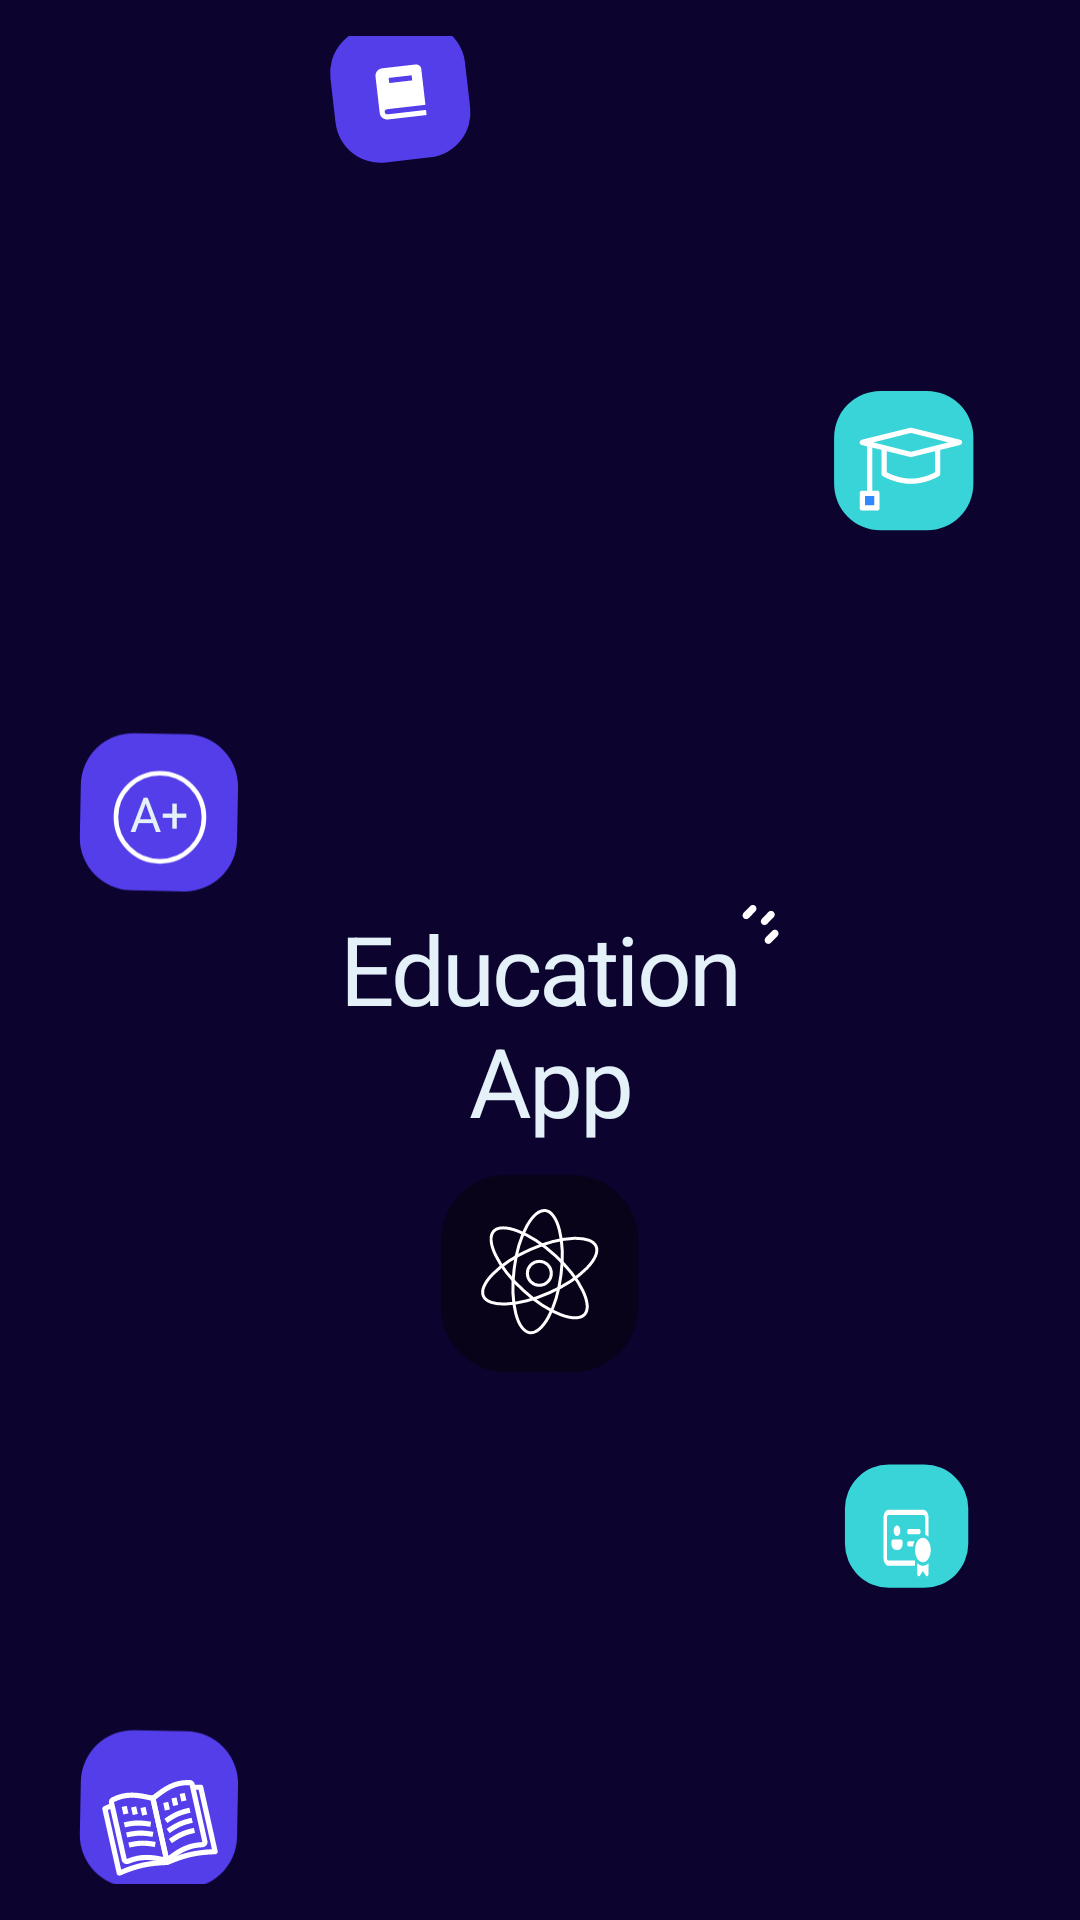

Icons on this 1080px x 1920px Android screen, each with its box as (x1, y1, x2, y2):
book: (330, 36, 471, 163)
fluent contact card ribbon: (883, 1509, 931, 1577)
hat: (834, 391, 974, 531)
healthicons register book: (84, 1753, 234, 1884)
